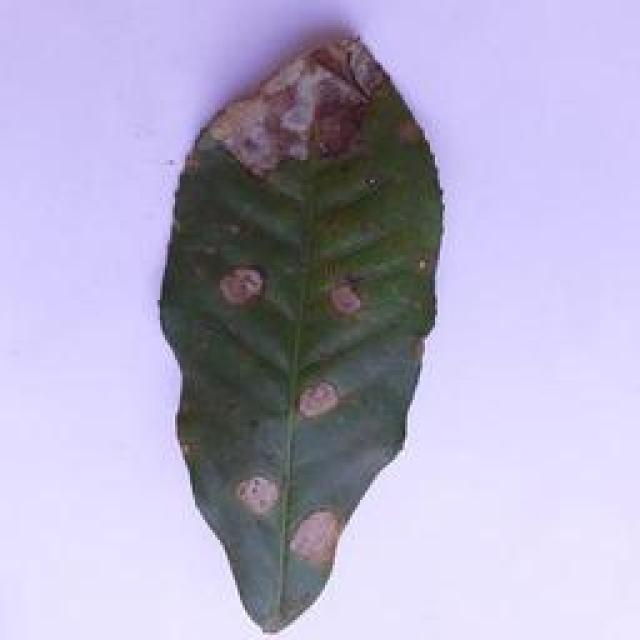Gray Blight: (148, 25, 450, 635)
